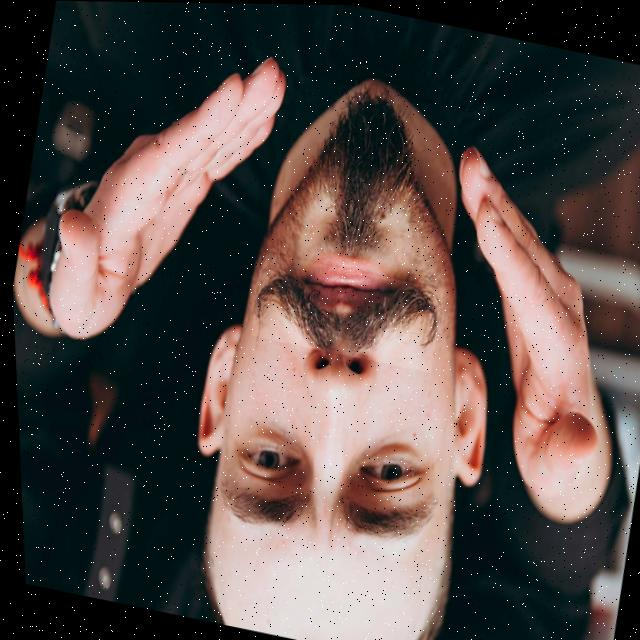beard: (278, 89, 439, 255), (252, 266, 437, 350)
